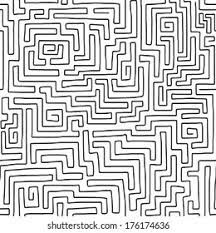maze: (1, 1, 215, 215)
